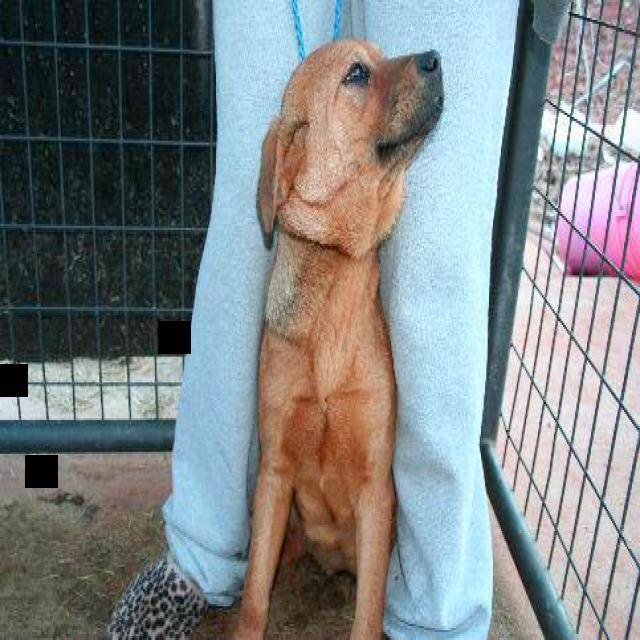adult_dog: (229, 33, 442, 640)
